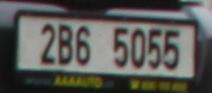0: (130, 28, 146, 69)
2: (39, 23, 57, 65)
5: (112, 26, 129, 69), (164, 28, 181, 71), (147, 27, 161, 70)
6: (76, 25, 92, 66)
B: (58, 25, 73, 66)
